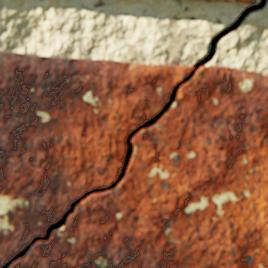brick: (230, 0, 251, 2)
broken_brick: (10, 65, 267, 267), (0, 50, 194, 267)
crack: (2, 0, 267, 267)
